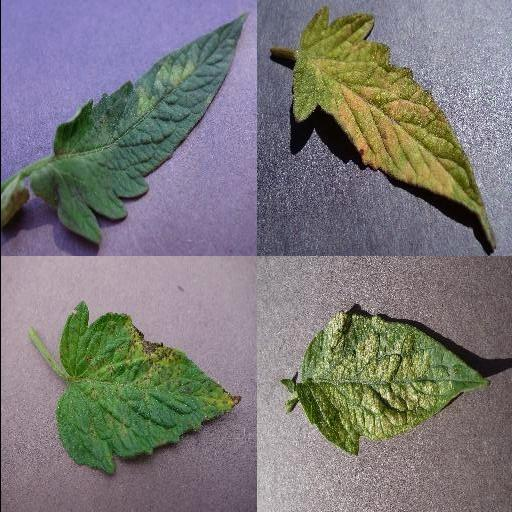Leaf Mold: (30, 13, 248, 245), (288, 8, 496, 248)
Septoria: (57, 302, 241, 476)
Spider Mites: (296, 311, 488, 455)
